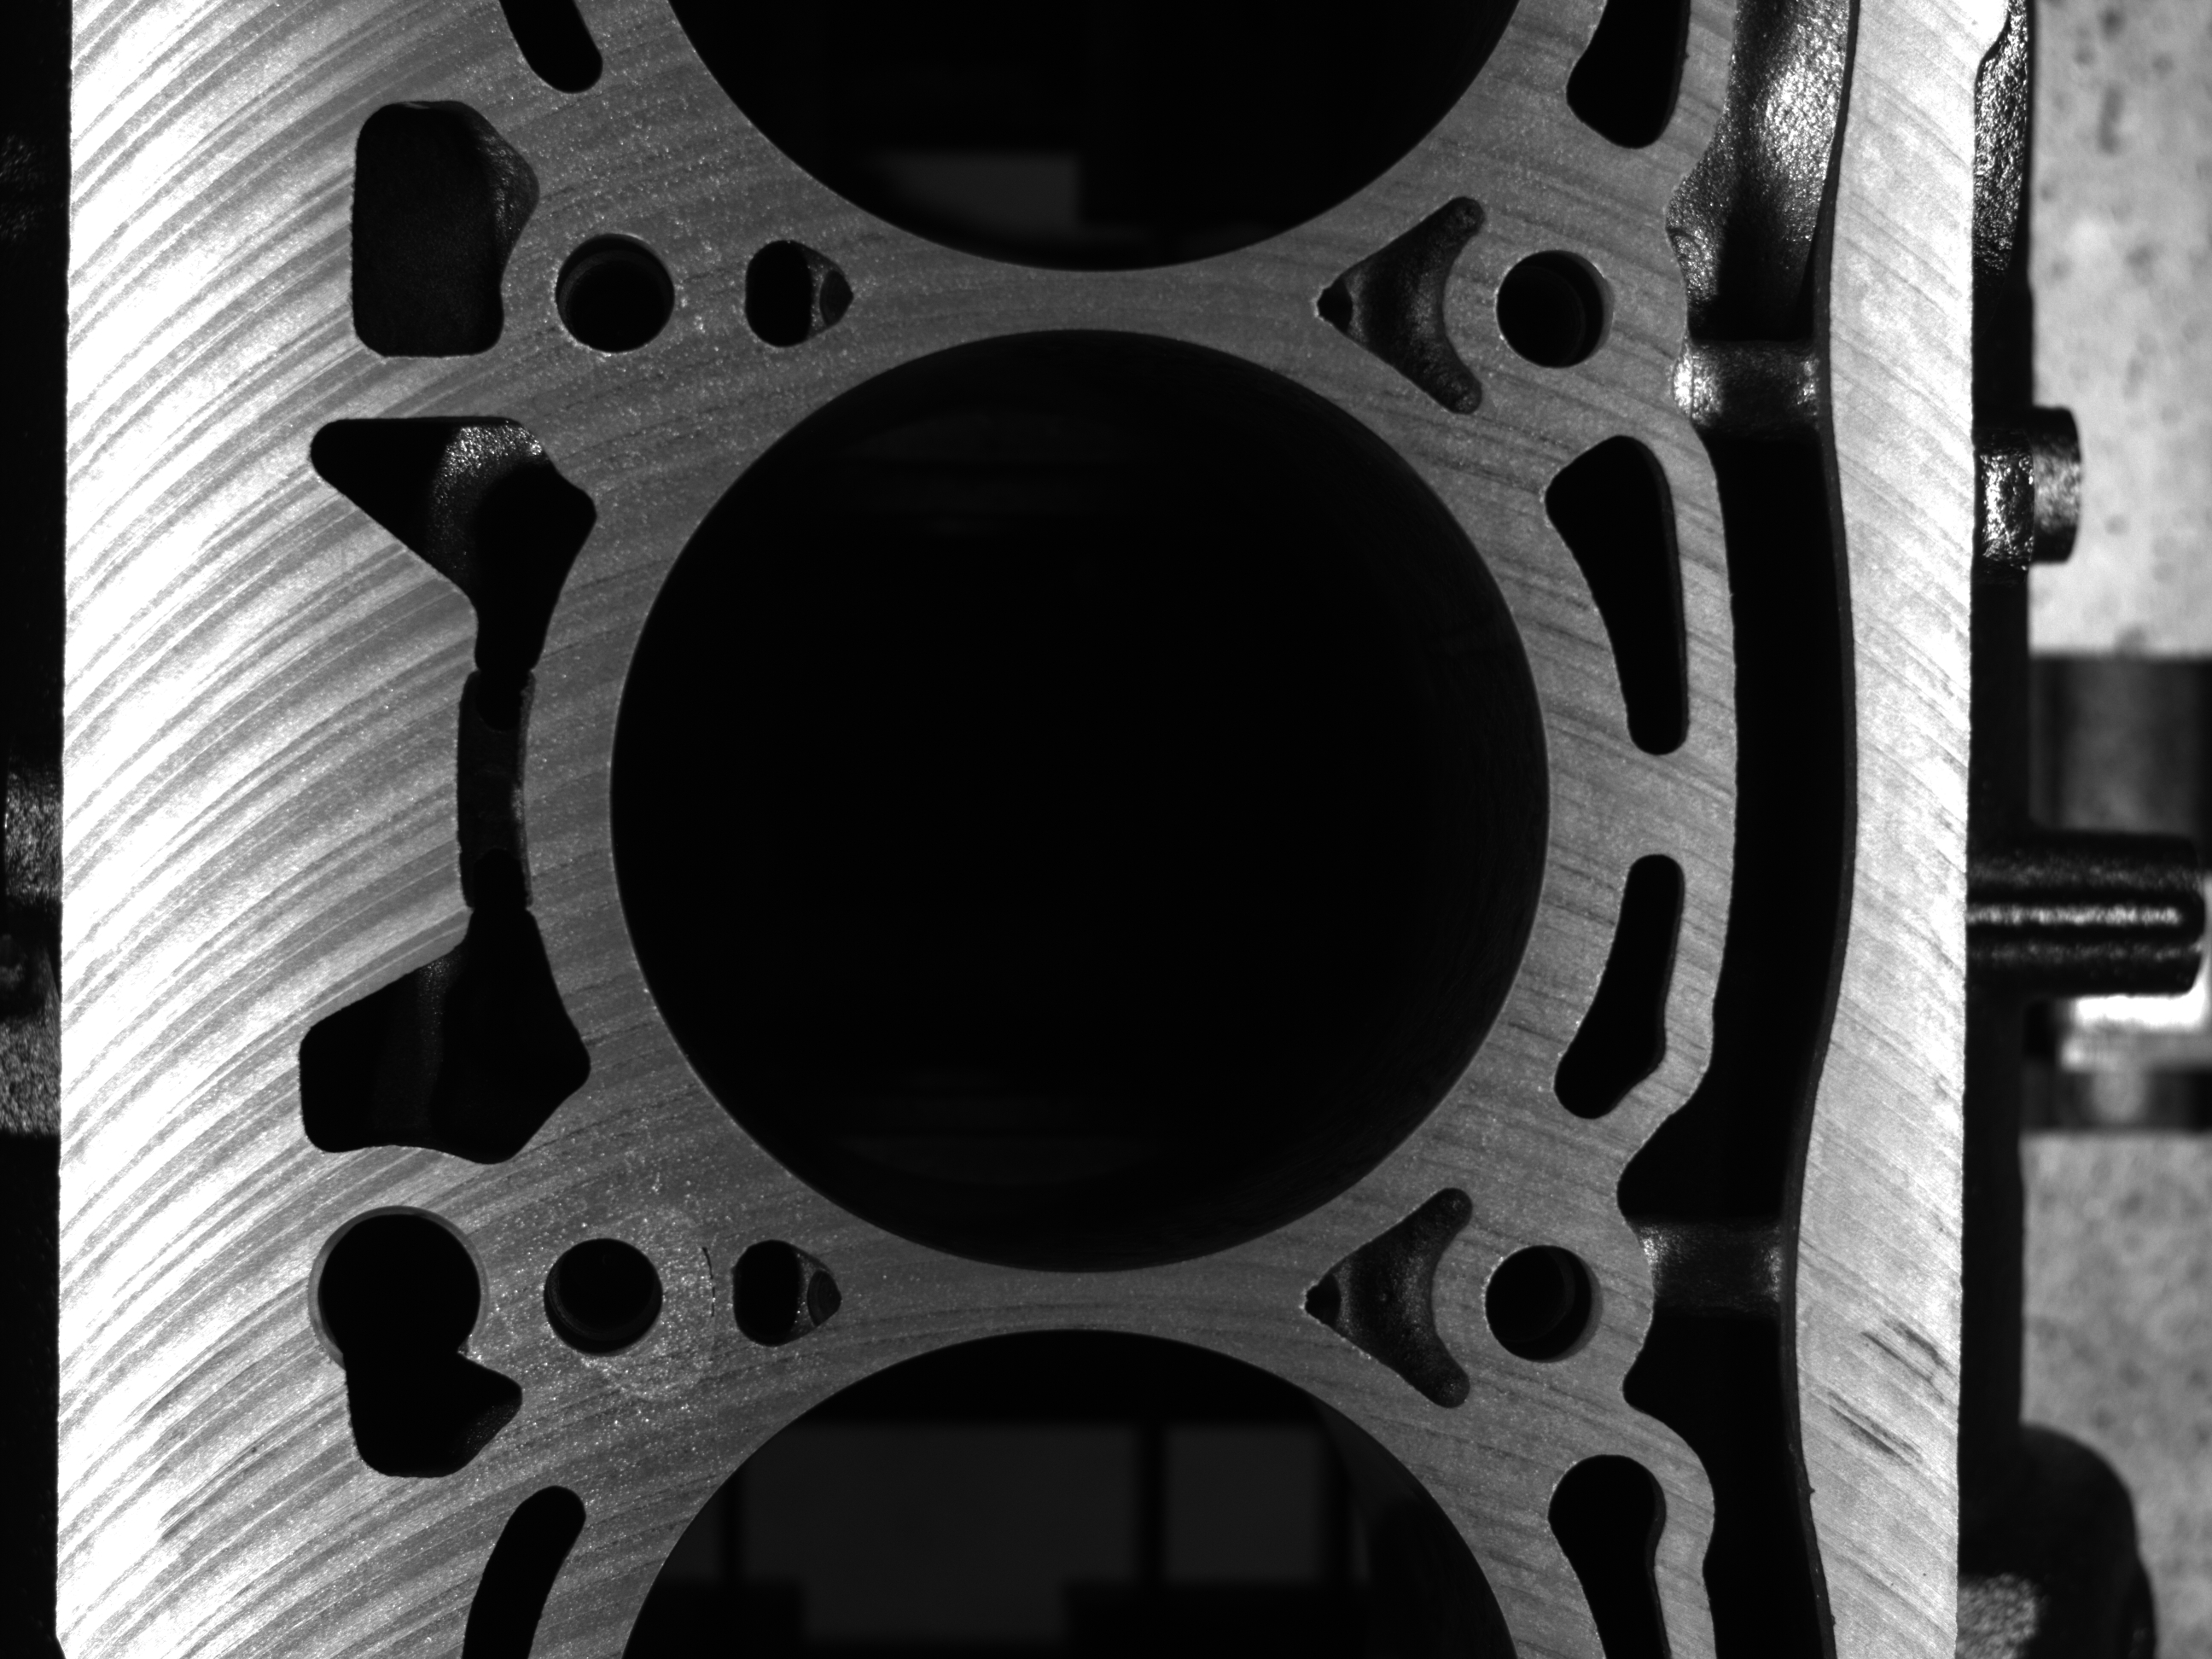crackle: (700, 1241, 730, 1349)
